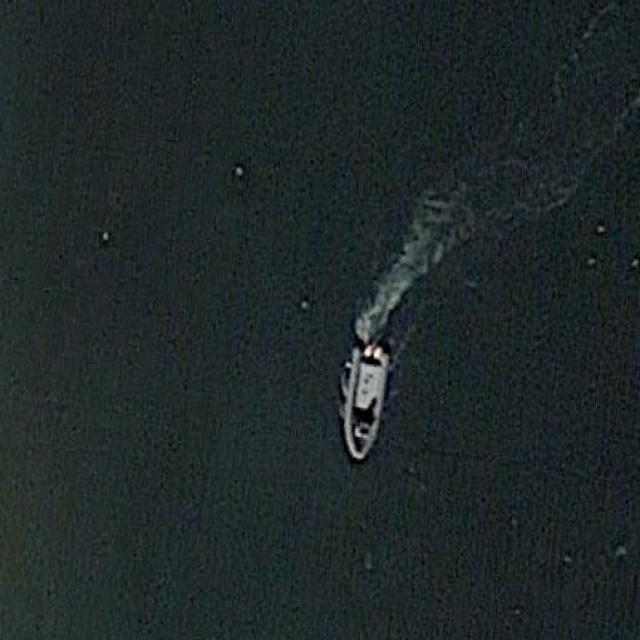boat: (336, 342, 392, 464)
